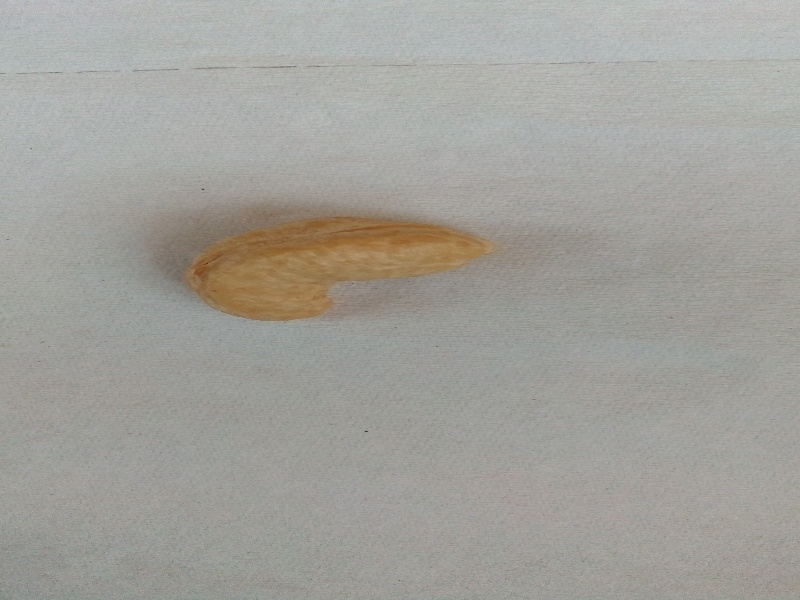cashew: (167, 210, 529, 330)
